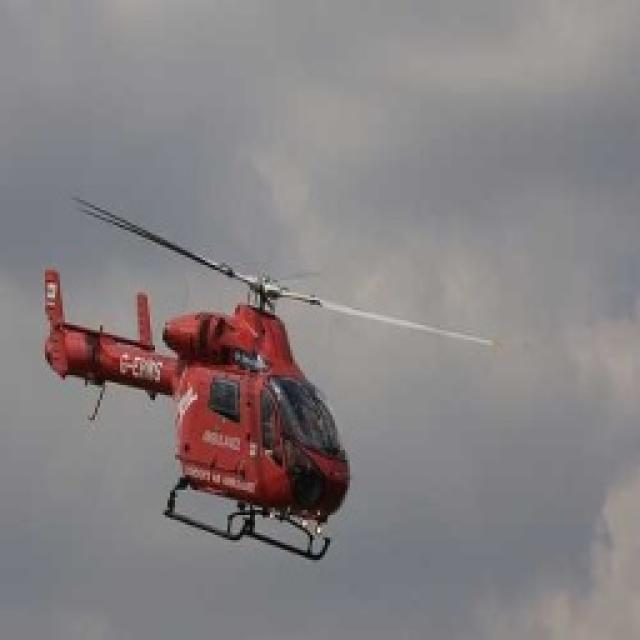ambulance: (32, 288, 350, 550)
